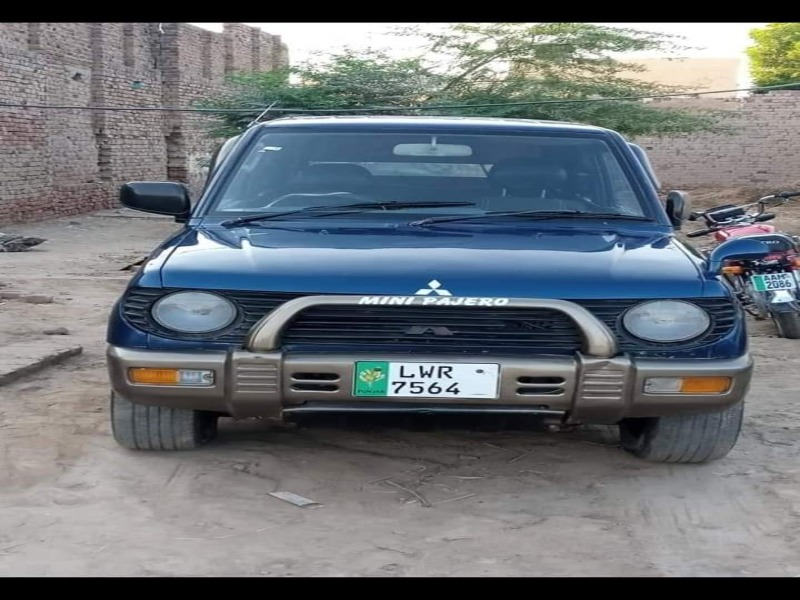License Plate: (352, 357, 502, 402)
